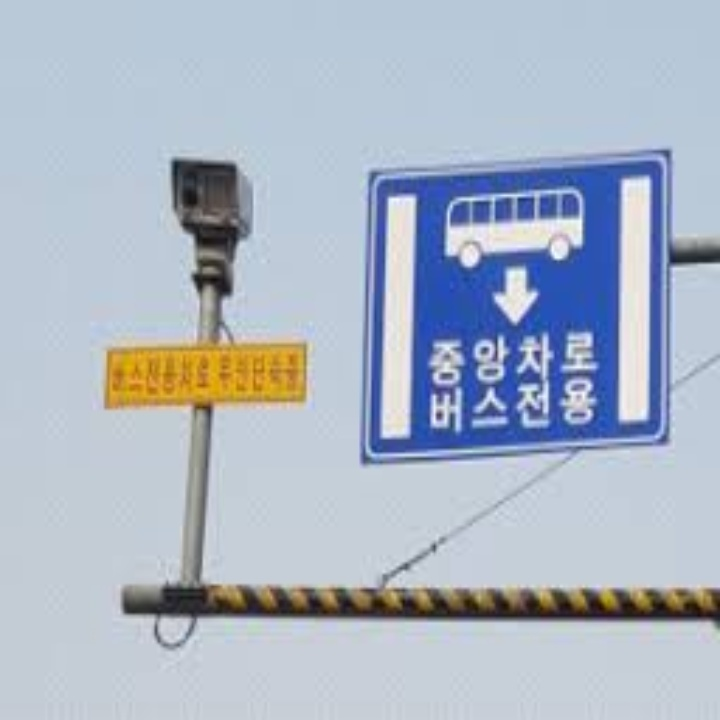bus: (435, 191, 591, 268)
